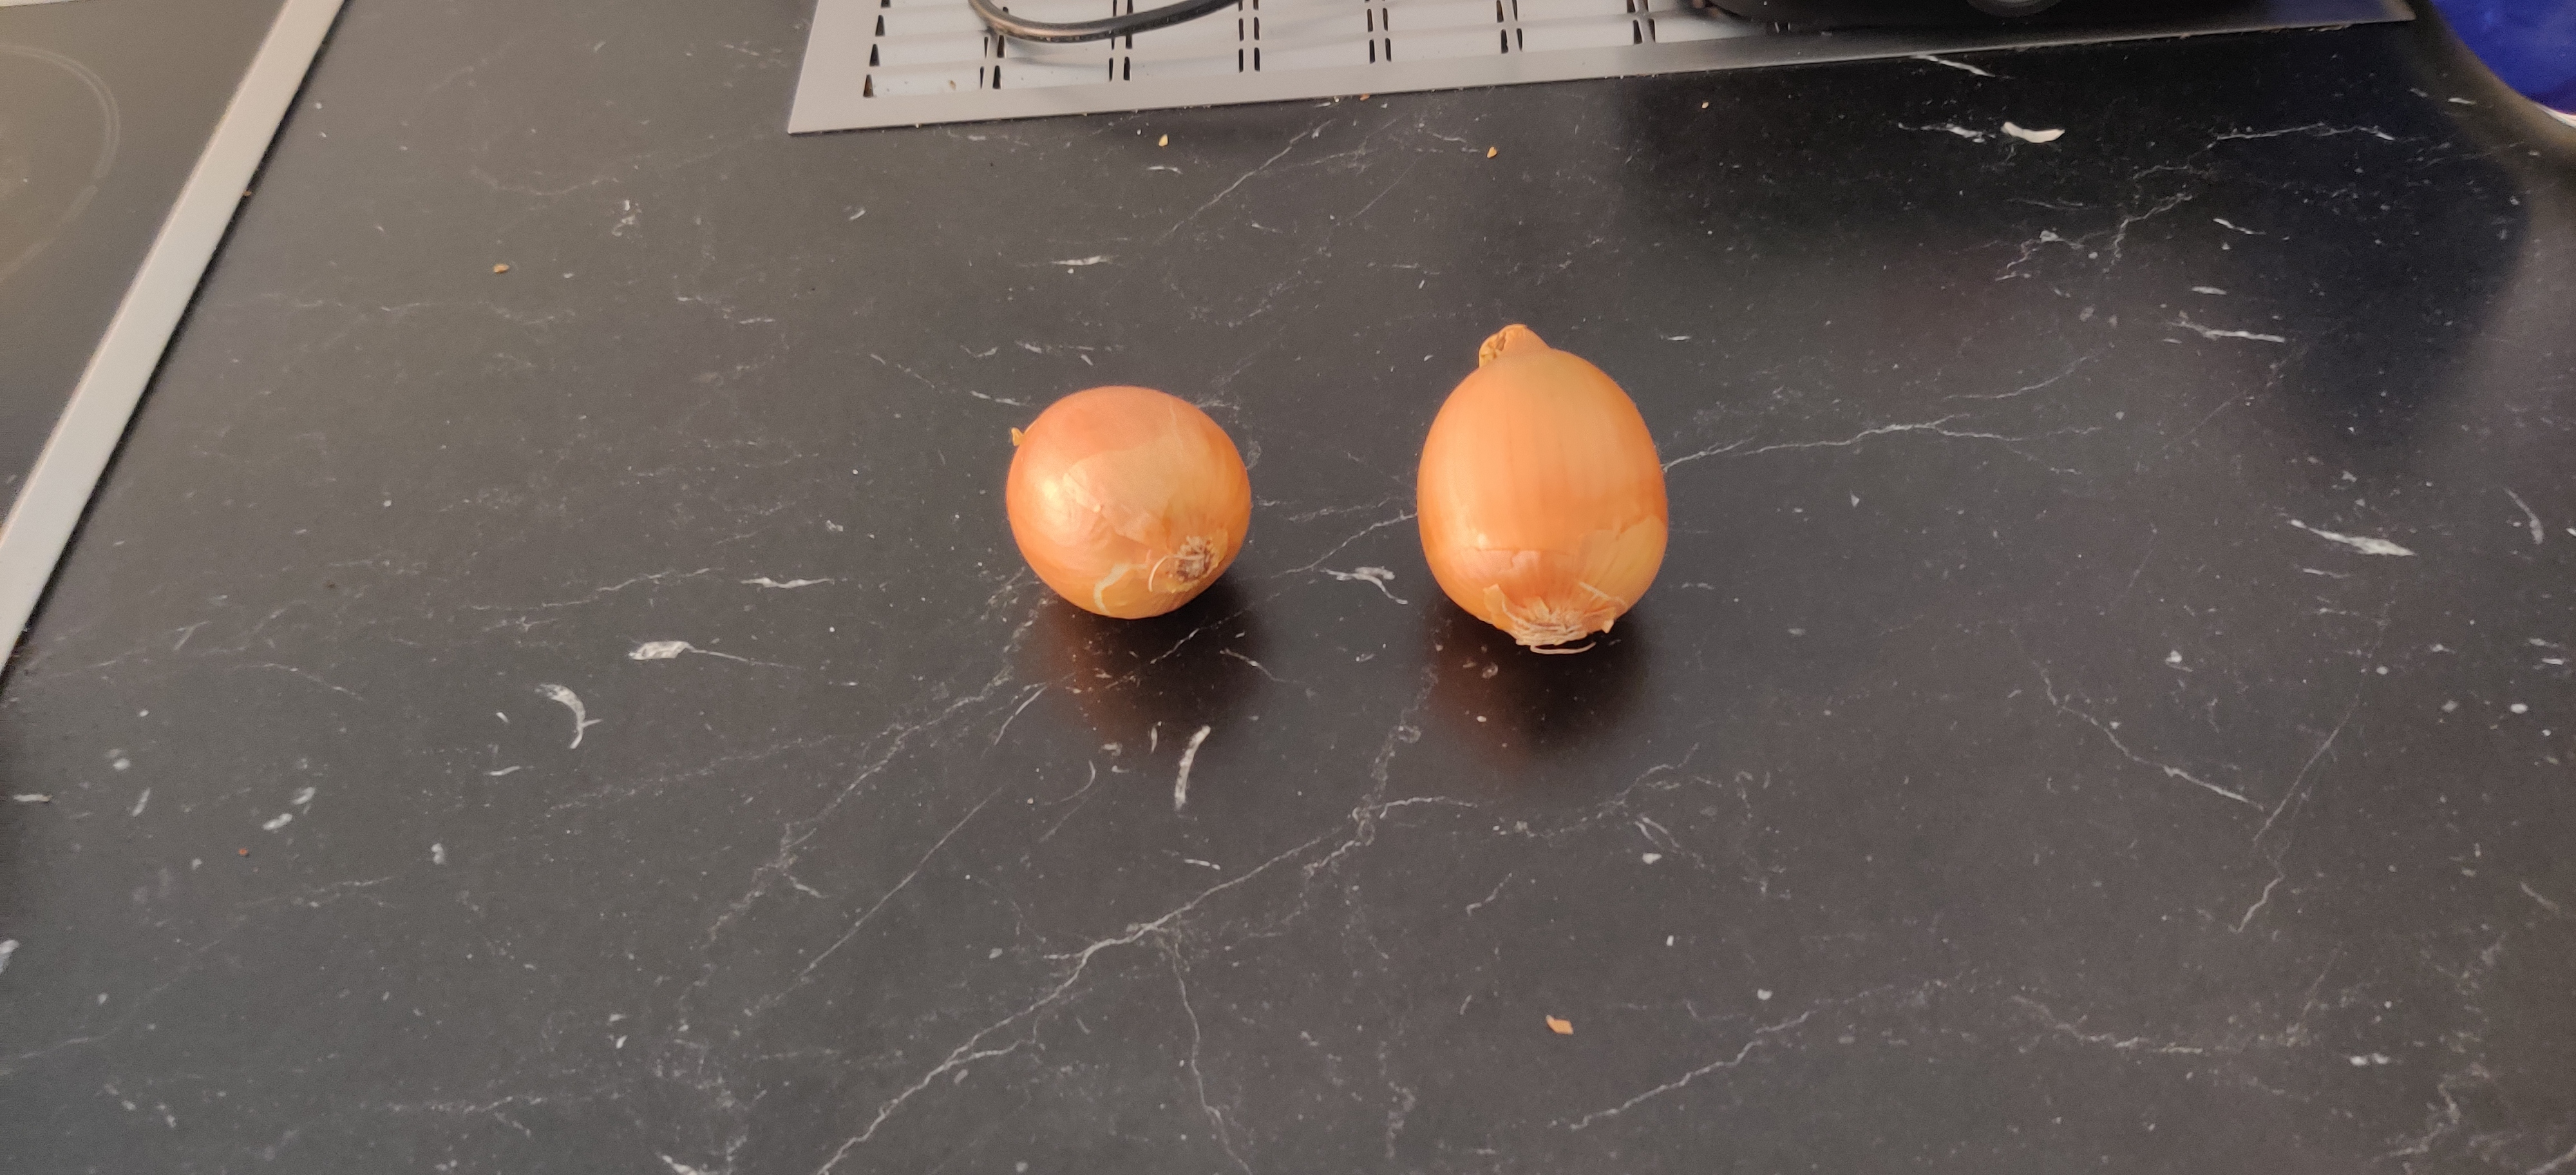Zwiebel: (1418, 324, 1669, 647), (1005, 386, 1252, 620)
